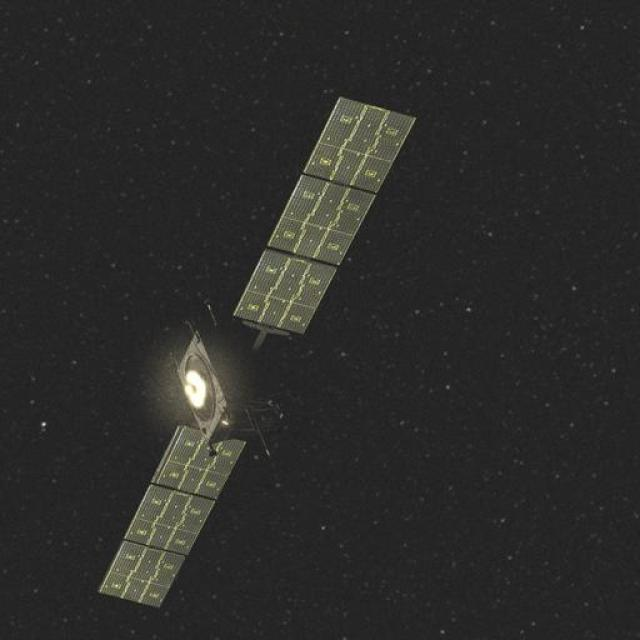smart_1: (129, 282, 314, 480)
